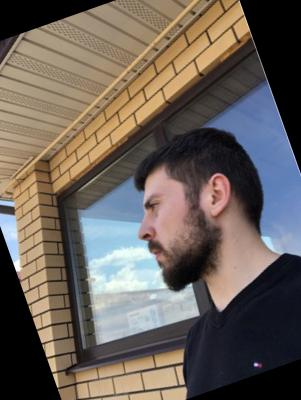without_mask: (123, 175, 215, 298)
